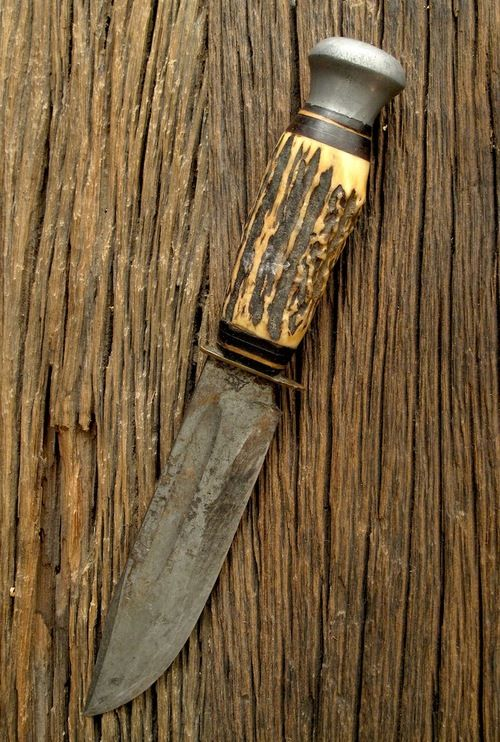knife: (81, 22, 420, 722)
